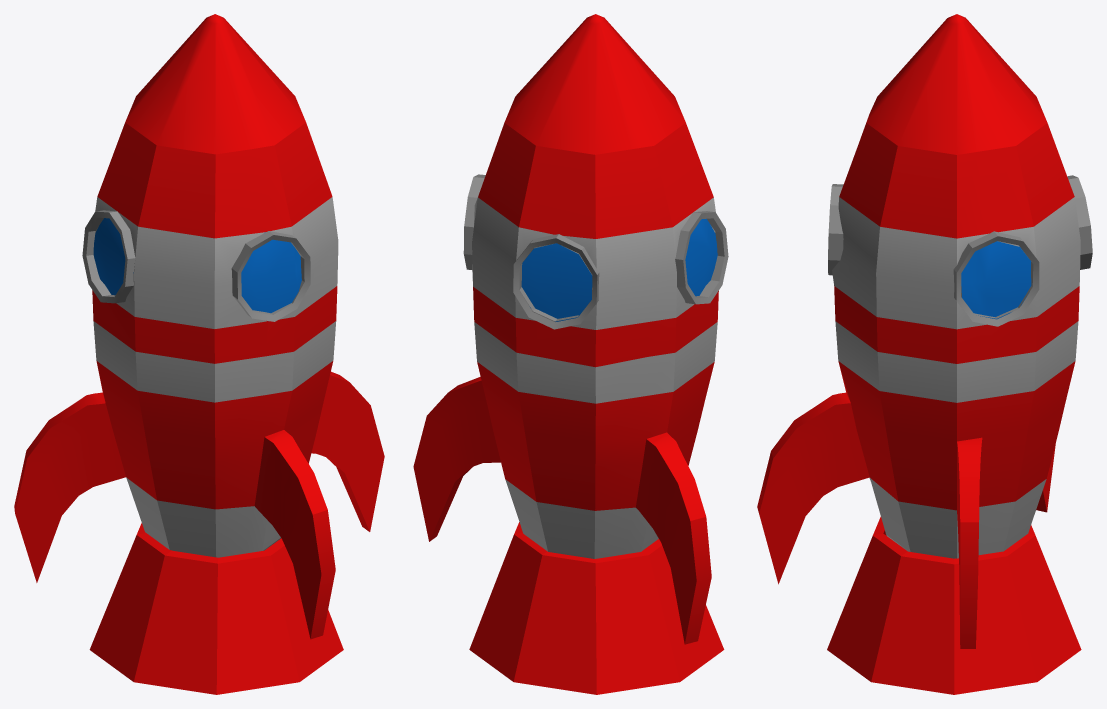
File: spaceship.fbx
The picture shows the model from 3 angles, left to right: view 1: azimuth 30°, elevation 25°; view 2: azimuth 150°, elevation 25°; view 3: azimuth 270°, elevation 25°; orthographic projection.
Parts seen in each view (by area): view 1: polySurface16, polySurface11; view 2: polySurface16, polySurface11; view 3: polySurface16, polySurface11.
Part boxes in pixels (bbox=[...]): polySurface16: bbox=[14, 14, 384, 639]; polySurface11: bbox=[89, 523, 343, 694]; polySurface16: bbox=[413, 14, 728, 644]; polySurface11: bbox=[469, 522, 724, 694]; polySurface16: bbox=[757, 14, 1092, 648]; polySurface11: bbox=[827, 516, 1081, 694].
Bounding box in the file's own units: 3.41 × 6.24 × 3.
